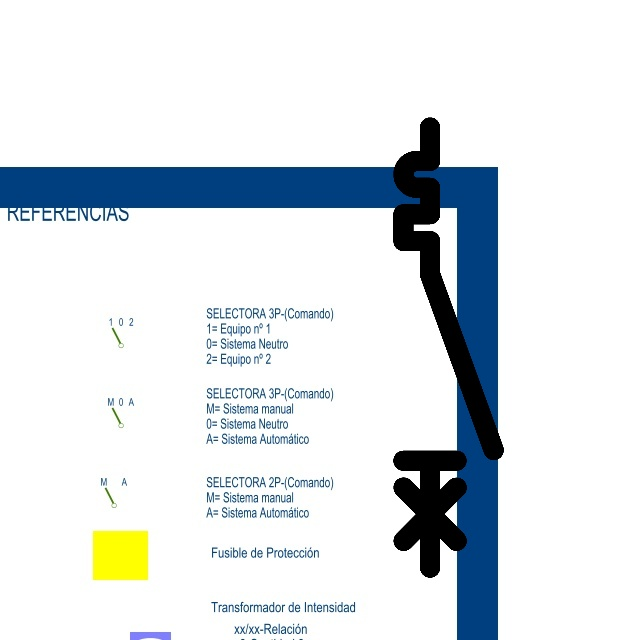interruptor_termomagnetico: (392, 116, 505, 579)
